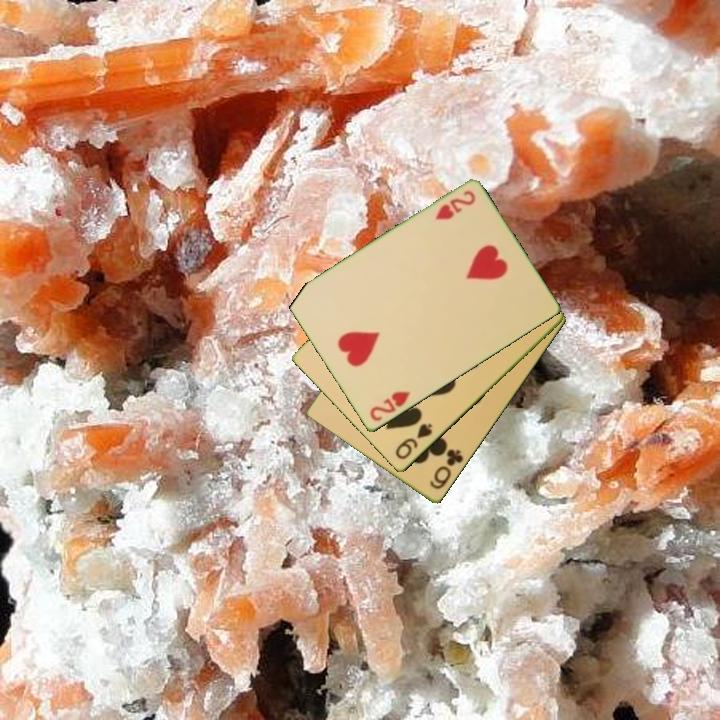2h: (366, 388, 413, 425), (432, 187, 479, 223)
6c: (426, 445, 467, 493)
9s: (392, 420, 435, 463)
